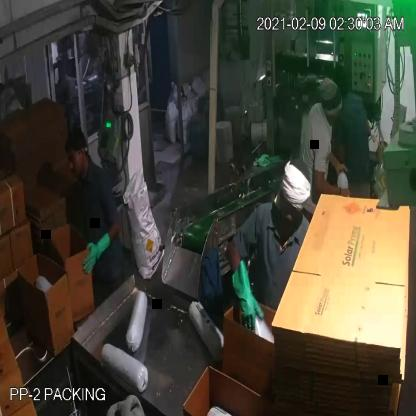glove: (228, 255, 268, 338), (83, 222, 115, 277)
no_glove: (309, 164, 353, 199), (324, 147, 354, 182)
